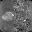people: (1, 12, 14, 22)
